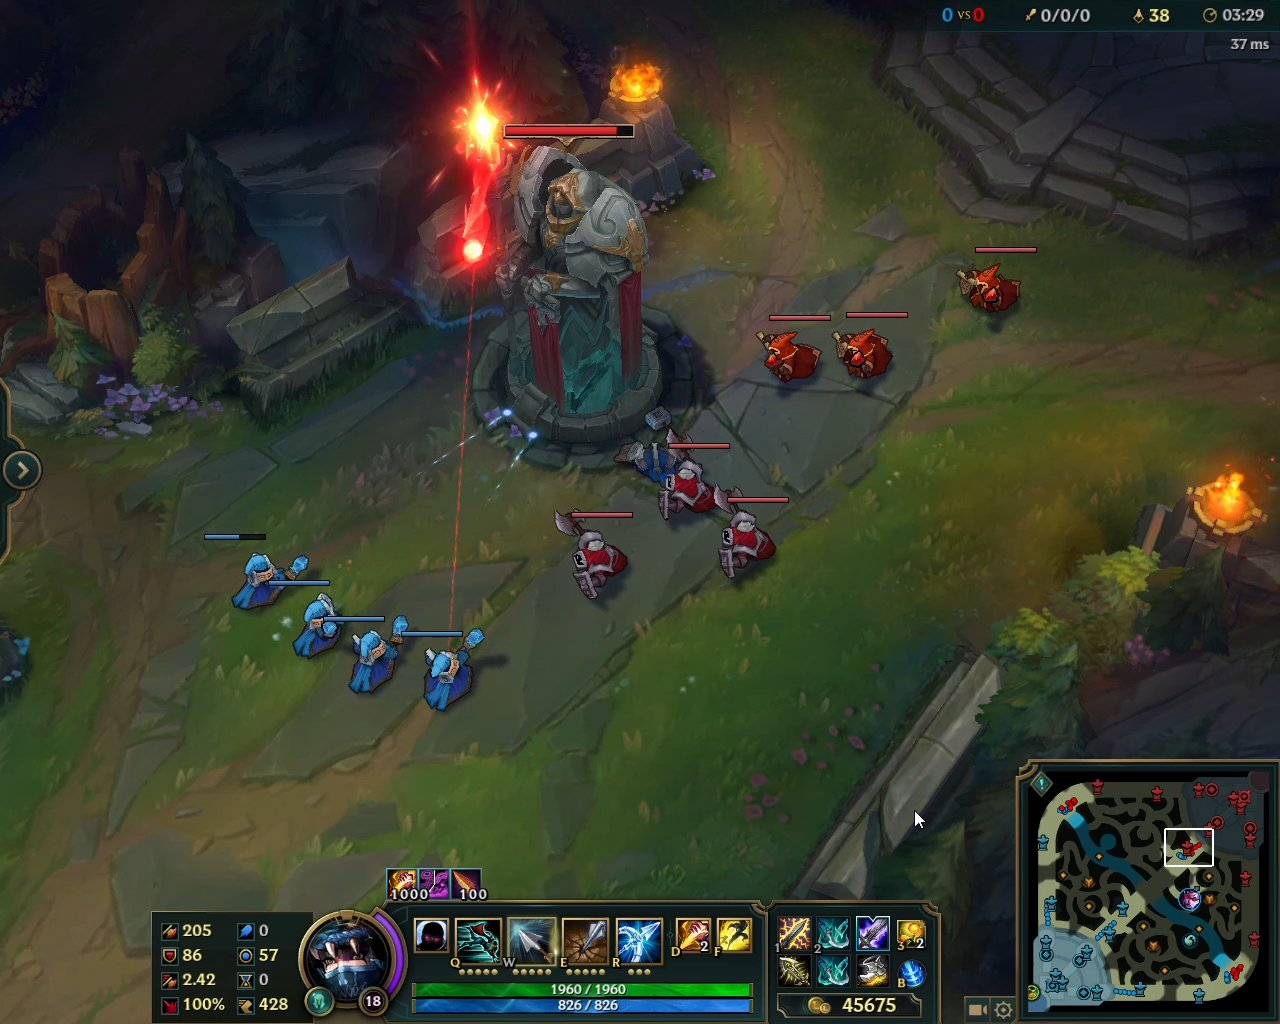EnemyMinion: (550, 506, 634, 603), (714, 479, 786, 588), (653, 438, 734, 527), (831, 310, 910, 391), (951, 245, 1040, 315), (751, 313, 833, 390)
Tower: (461, 78, 672, 452)
